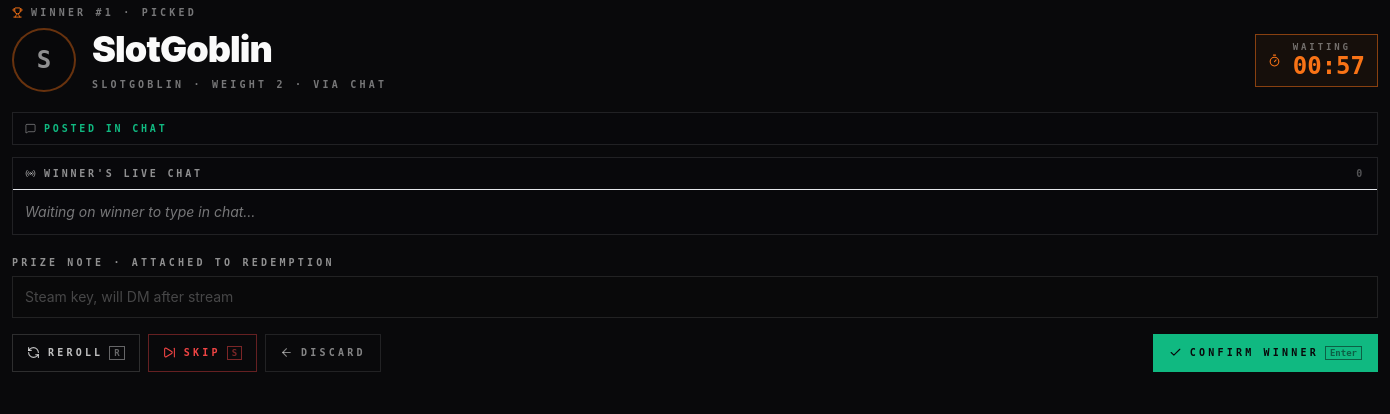
Scenario: inline: a signed-out operator reads a plain sign-out message
The image size is (1390, 414).
Step 1. Click the button "Reroll" → point(76, 353), box left=12, top=334, right=140, bottom=372
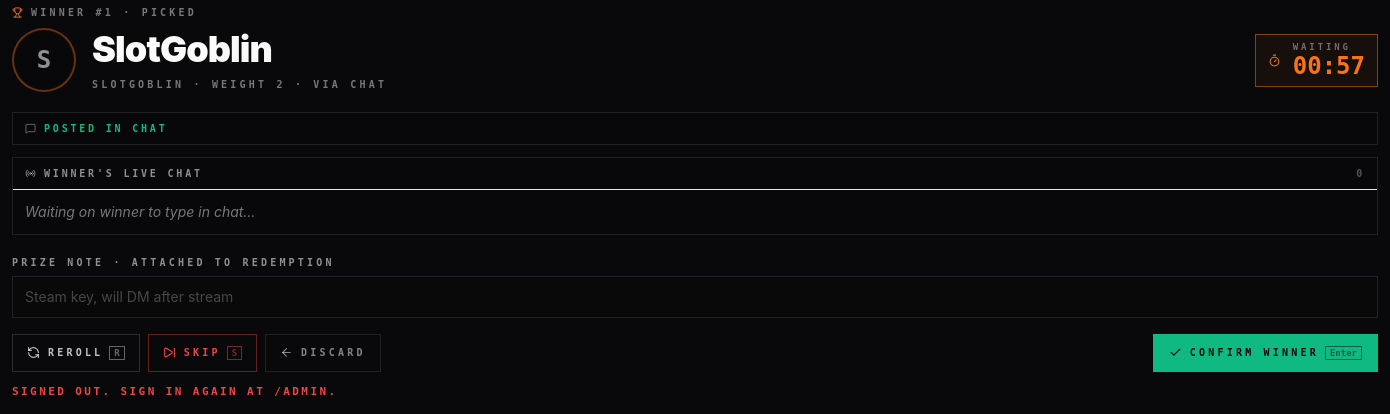
Expected: the text "Signed out. Sign in again at /admin." is shown, left=12, top=384, right=338, bottom=398
